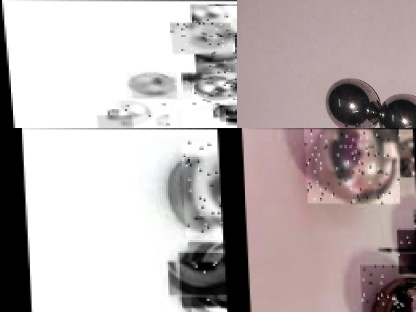ironball: (302, 128, 398, 203), (178, 141, 222, 235), (175, 252, 225, 307), (326, 75, 381, 125), (357, 264, 415, 311), (167, 22, 230, 54), (178, 72, 237, 104), (381, 83, 414, 130), (113, 100, 169, 127), (187, 5, 236, 32), (191, 54, 237, 80), (126, 76, 173, 98), (394, 229, 415, 273), (388, 133, 414, 168), (214, 101, 237, 121), (92, 115, 128, 127), (230, 51, 237, 86), (229, 18, 237, 37)
